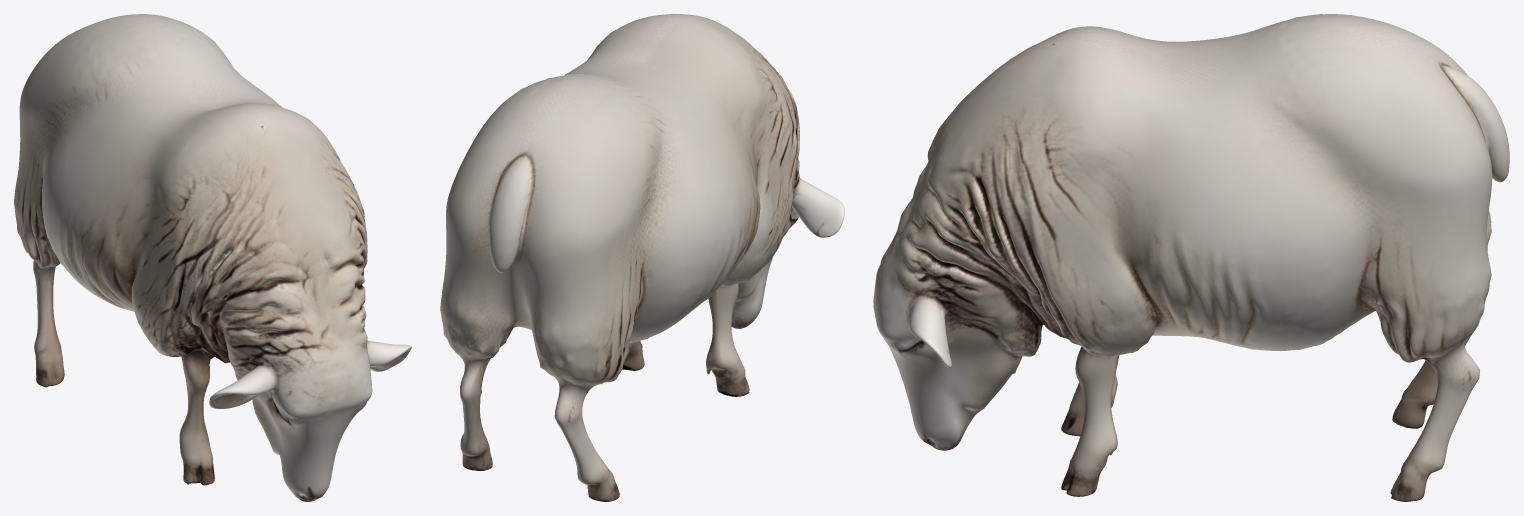
Rendered from sheep_grazing.glb.
3 views of the same model, side by side, from view 1: azimuth 30°, elevation 25°; view 2: azimuth 150°, elevation 25°; view 3: azimuth 270°, elevation 25° (orthographic). The views are drawn at different scales.
Parts seen in each view (by area): view 1: model; view 2: model; view 3: model.
Boxes of the visible parts, bbox=[...] form: model: bbox=[14, 14, 411, 501]; model: bbox=[440, 14, 844, 501]; model: bbox=[873, 14, 1509, 501].
Size of the model in its own units: 0.9856 by 1.43 by 1.9.
1 material, 1 textured.
